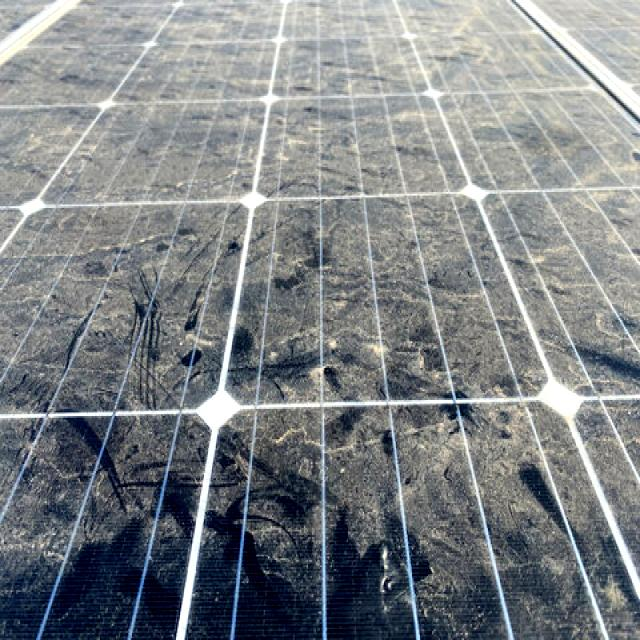dust: (219, 410, 602, 631), (267, 190, 519, 404), (272, 89, 636, 195), (7, 417, 178, 640), (20, 222, 208, 406), (69, 11, 238, 205), (290, 13, 550, 84)
